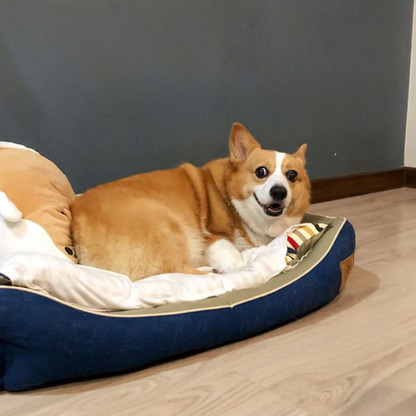Corgi: (56, 123, 324, 271)
